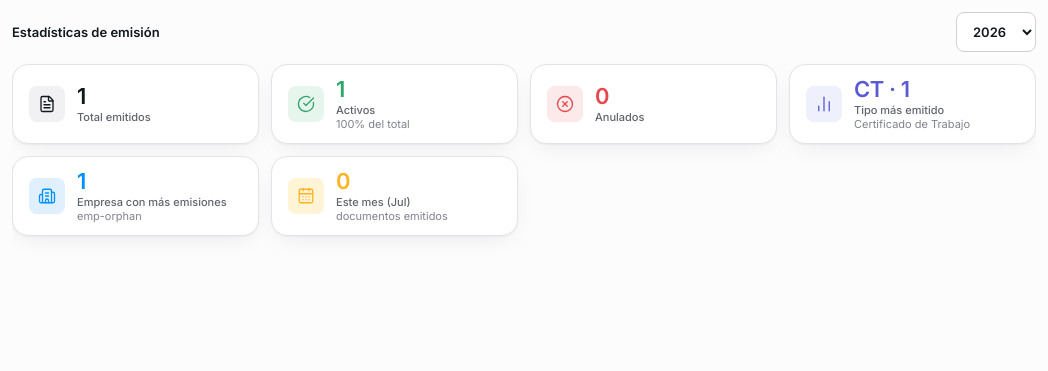
Test: popover por empresa › uses empresa_id as the label when razon_social is absent
What coordinates should you click on to do the following:
click the button "1 Empresa con más emisiones emp-orphan"
I would click on:
 (136, 196)
Its box is [12, 156, 259, 236].
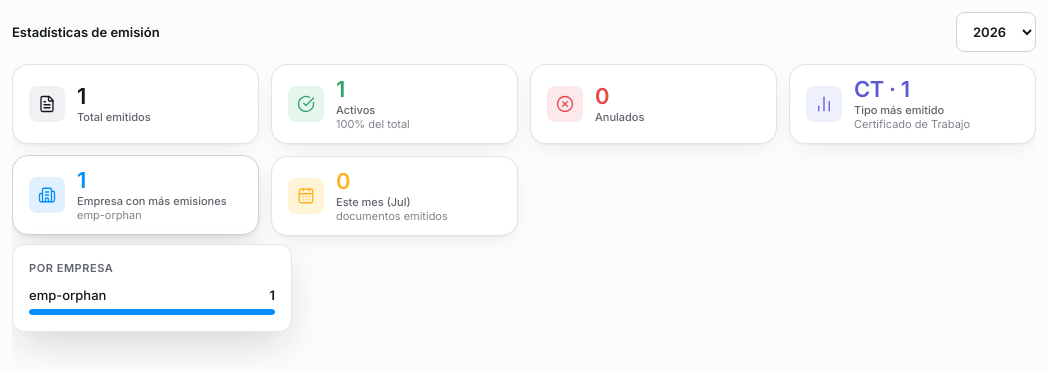
Result: the text "emp-orphan" below "Por empresa" is shown at [29, 287, 106, 303]
